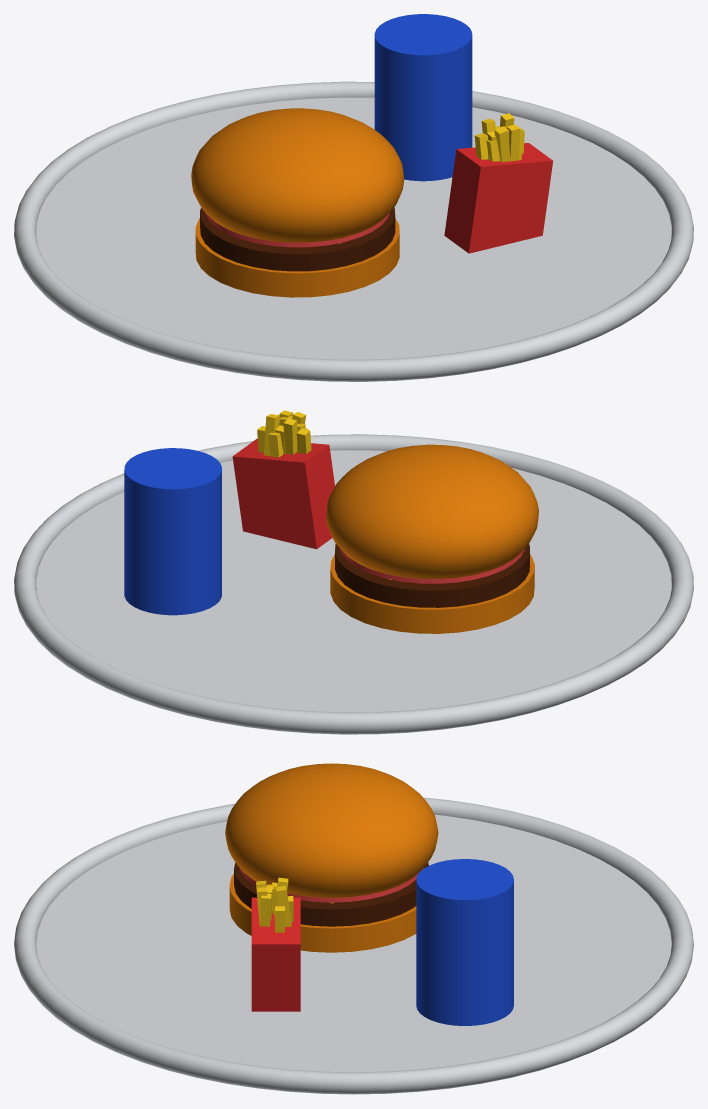
File: thali_junk_original.glb
3 views of the same model, one above another, from view 1: azimuth 30°, elevation 25°; view 2: azimuth 150°, elevation 25°; view 3: azimuth 270°, elevation 25° (orthographic).
Visible parts, largest first — view 1: FastFood_Tray_Plate, Loaded_Burger, Junk_Food_Thali_Original, Soda_Can, French_Fries_Carton; view 2: FastFood_Tray_Plate, Loaded_Burger, Junk_Food_Thali_Original, Soda_Can, French_Fries_Carton; view 3: FastFood_Tray_Plate, Loaded_Burger, Junk_Food_Thali_Original, Soda_Can, French_Fries_Carton.
Boxes of the visible parts, bbox=[...] form: FastFood_Tray_Plate: bbox=[36, 97, 671, 359]; Loaded_Burger: bbox=[191, 108, 404, 297]; Junk_Food_Thali_Original: bbox=[14, 81, 693, 381]; Soda_Can: bbox=[374, 14, 472, 181]; French_Fries_Carton: bbox=[444, 143, 552, 253]; FastFood_Tray_Plate: bbox=[36, 450, 671, 712]; Loaded_Burger: bbox=[326, 444, 538, 633]; Junk_Food_Thali_Original: bbox=[14, 410, 693, 734]; Soda_Can: bbox=[124, 448, 221, 615]; French_Fries_Carton: bbox=[232, 438, 334, 549]; FastFood_Tray_Plate: bbox=[36, 814, 671, 1072]; Loaded_Burger: bbox=[225, 763, 438, 952]; Junk_Food_Thali_Original: bbox=[14, 797, 693, 1094]; Soda_Can: bbox=[416, 859, 513, 1025]; French_Fries_Carton: bbox=[251, 897, 300, 1011].
Bounding box in the file's own units: 3.06 × 0.734 × 3.06.
